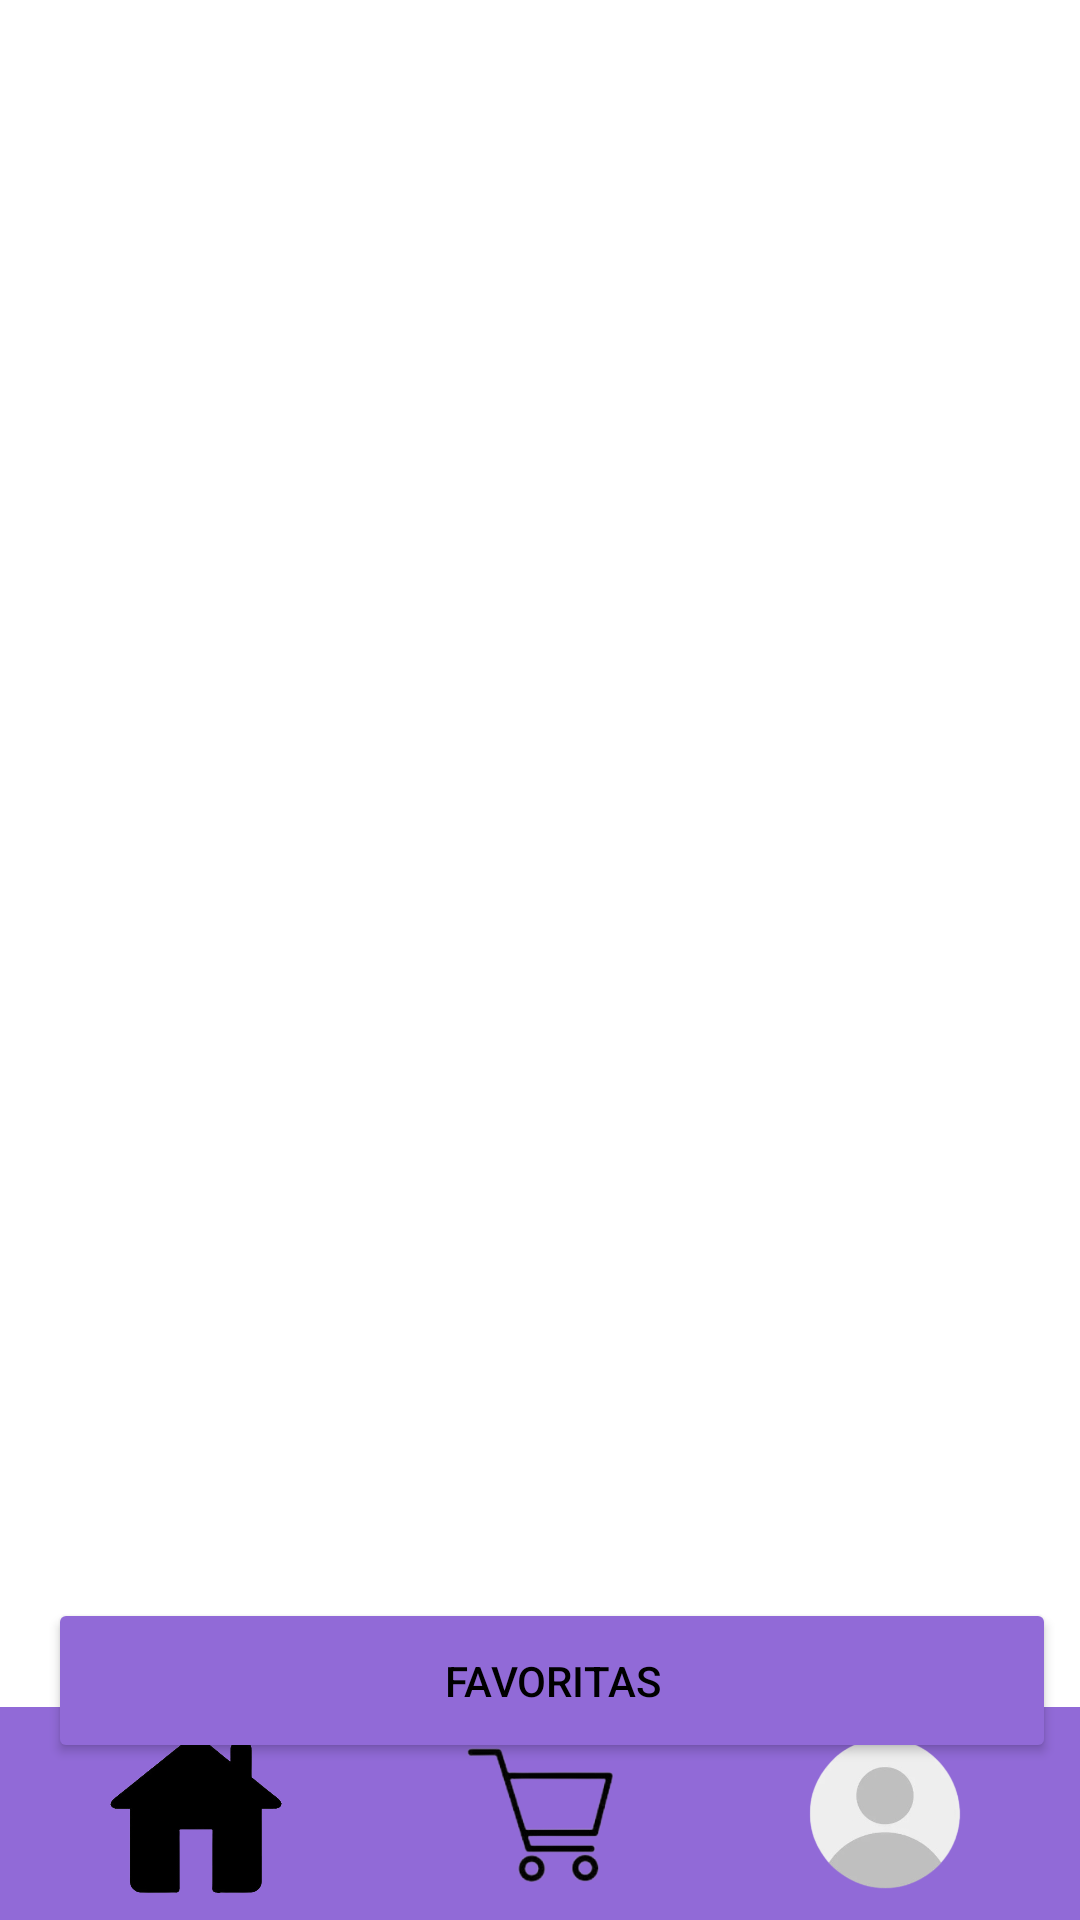

Named icons in this screenshot (1080 × 1920) and their centers, point (x, y):
carrito: point (540, 1813)
casa: point (214, 1817)
perfil: point (878, 1810)
